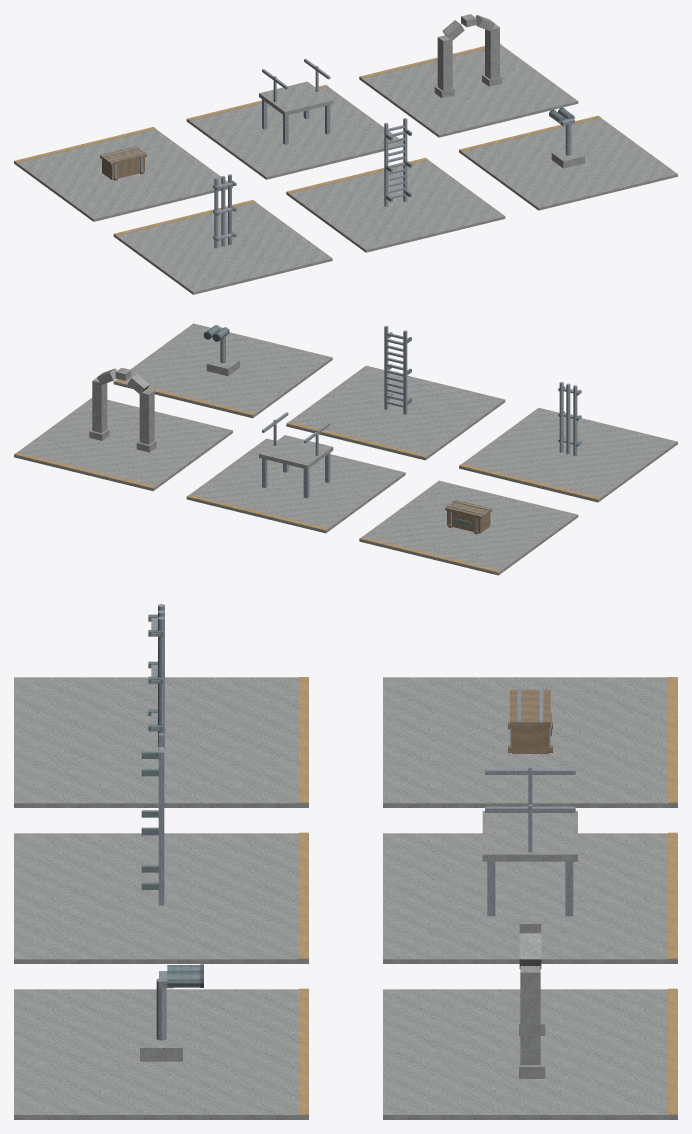
The model's file is level_blockout_kit_wld_17_p04.glb.
3 renders of one model, top to bottom at view 1: azimuth 30°, elevation 25°; view 2: azimuth 150°, elevation 25°; view 3: azimuth 270°, elevation 25°, orthographic. The views are drawn at different scales.
Visible parts, largest first — view 1: level_blockout_kit_wld_17_p04; view 2: level_blockout_kit_wld_17_p04; view 3: level_blockout_kit_wld_17_p04.
Boxes of the visible parts, x1,y1,x2,y2 form: level_blockout_kit_wld_17_p04: (14, 14, 677, 294); level_blockout_kit_wld_17_p04: (14, 323, 677, 575); level_blockout_kit_wld_17_p04: (14, 604, 677, 1119).
Bounding box in the file's own units: 19.65 × 3.31 × 12.6.
Materials: 6 (6 with a texture image).
